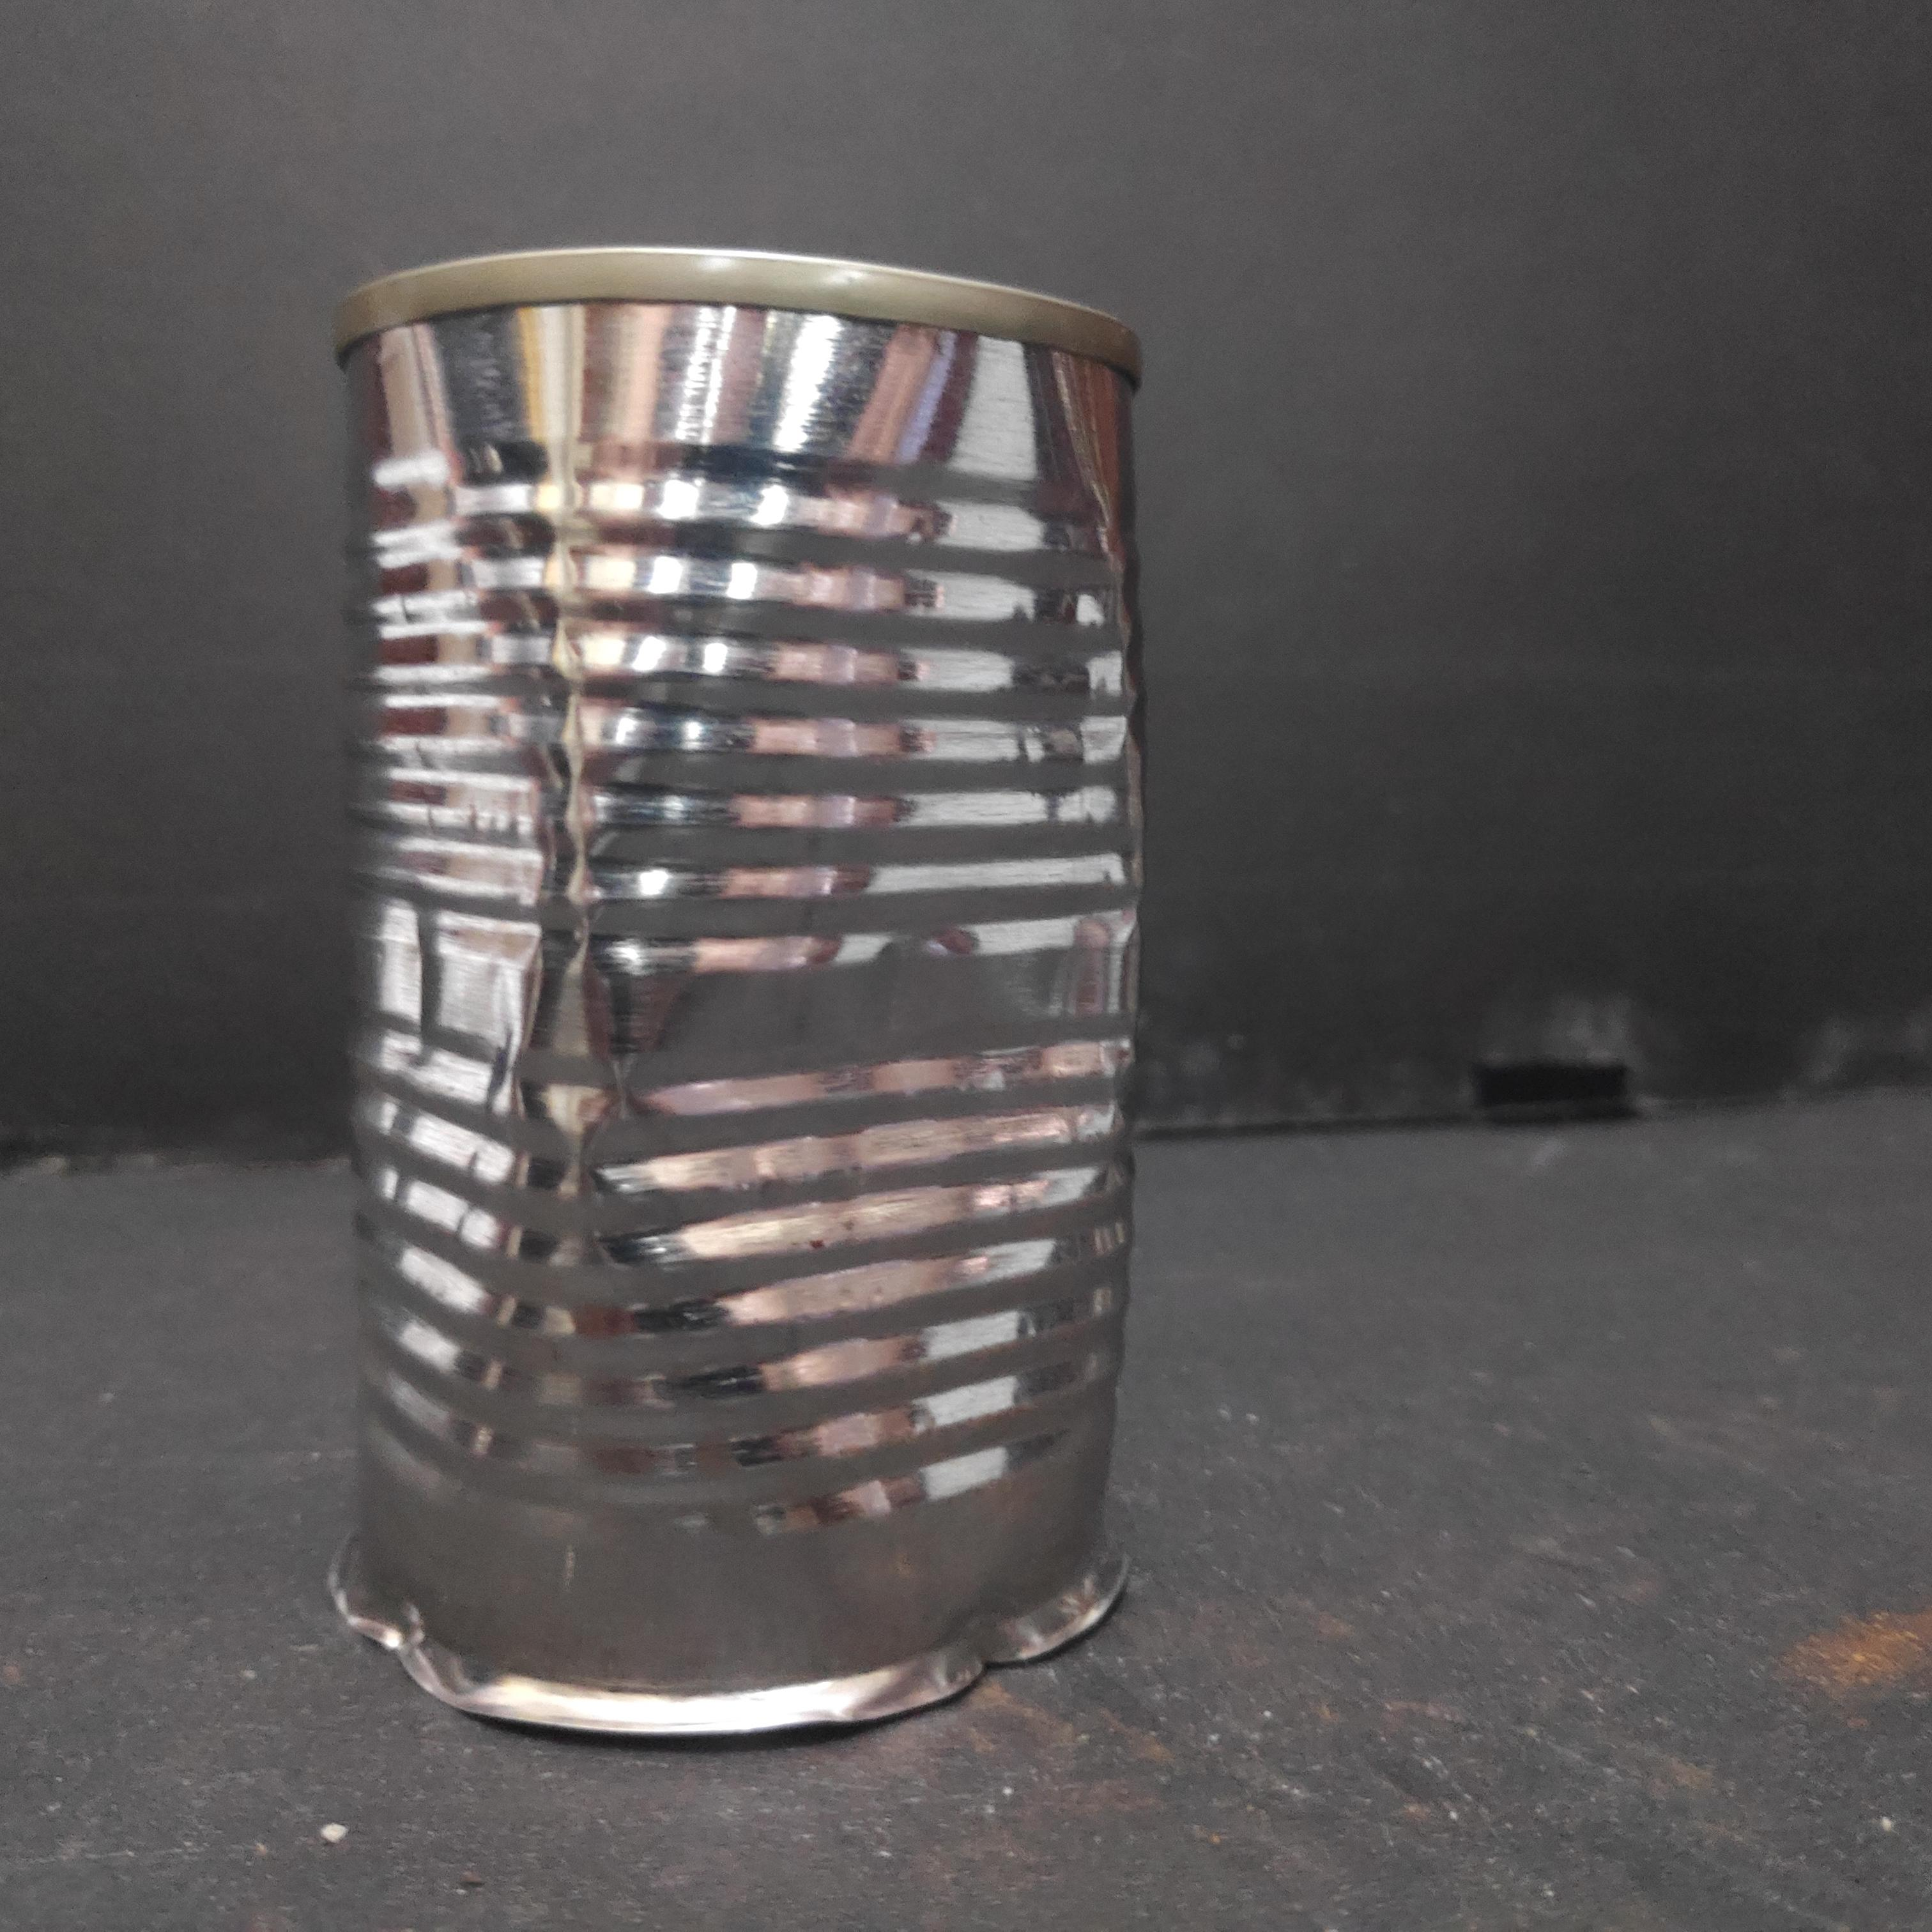Minor Defect: (317, 234, 1168, 1757)
